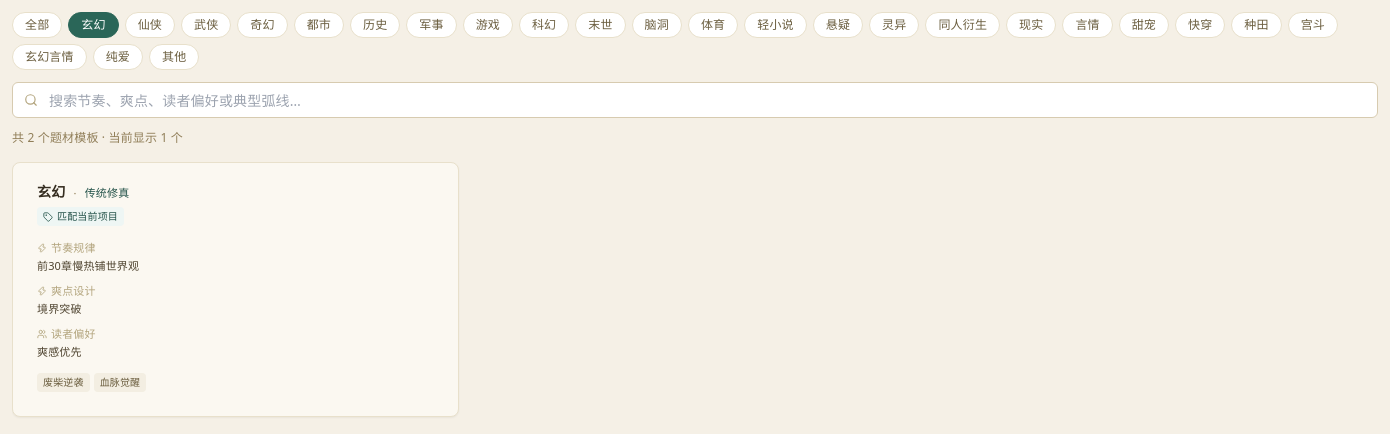
Test case: GenreTemplateList › 加载完成后渲染模板卡片与变体名、计数
The image size is (1390, 434).
Expected: the text "传统修真" is shown, x1=85 y1=185 x2=129 y2=201
Expected: the text "共 2 个题材模板 · 当前显示 1 个" is shown, x1=12 y1=129 x2=183 y2=146
Note: 切到全部后可看到言情模板的变体名
Click the button "全部": (37, 25) x1=12 y1=12 x2=62 y2=38
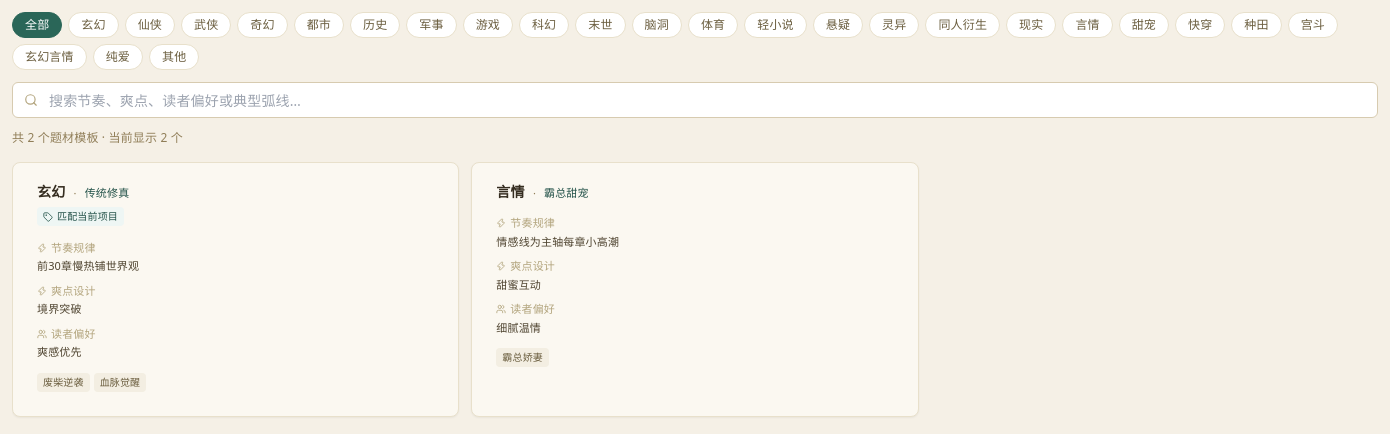
Expected: the text "霸总甜宠" is shown, x1=544 y1=185 x2=589 y2=201
Expected: the text "共 2 个题材模板 · 当前显示 2 个" is shown, x1=12 y1=129 x2=183 y2=146
